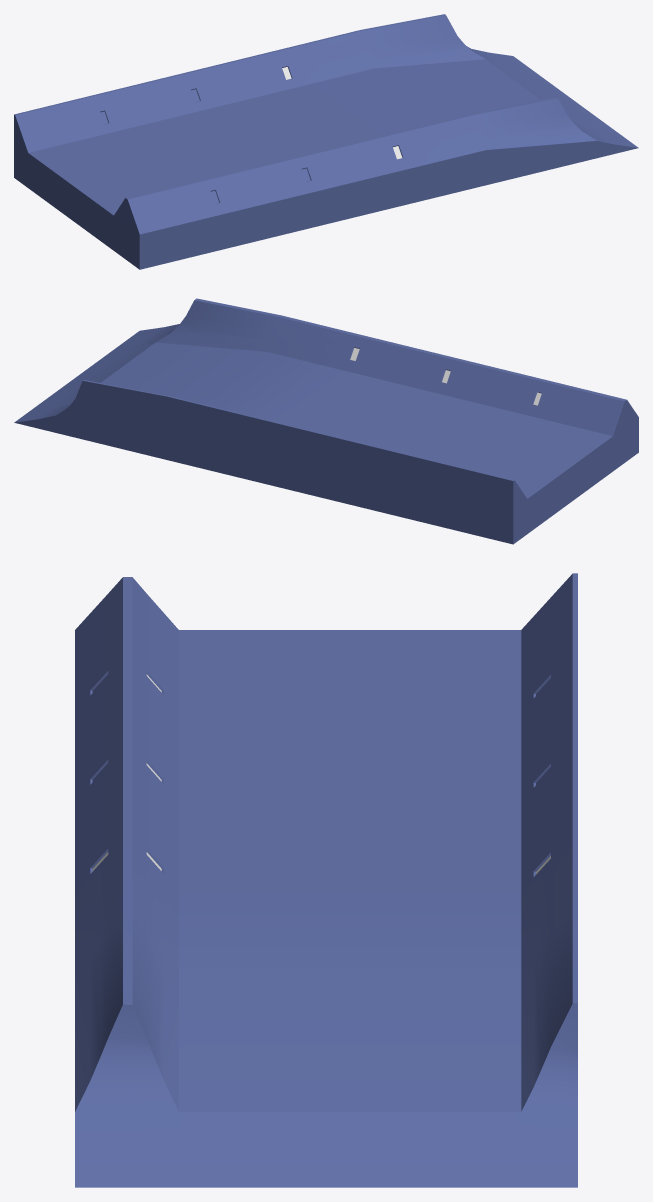
The model's file is staticmesh_Bridge_HalfTrackLeftRamp.fbx.
3 views of the same model, one above another, from view 1: azimuth 30°, elevation 25°; view 2: azimuth 150°, elevation 25°; view 3: azimuth 270°, elevation 25° (orthographic). The views are drawn at different scales.
Visible parts, largest first — view 1: geo_Bridge_HalfTrackLeftRamp; view 2: geo_Bridge_HalfTrackLeftRamp; view 3: geo_Bridge_HalfTrackLeftRamp.
Boxes of the visible parts, box(x1,y1,x2,y2) form: geo_Bridge_HalfTrackLeftRamp: box(14, 14, 638, 269); geo_Bridge_HalfTrackLeftRamp: box(14, 298, 638, 544); geo_Bridge_HalfTrackLeftRamp: box(75, 573, 577, 1187).
Size of what is drawn, in the model's own units: 895 by 109 by 390.
